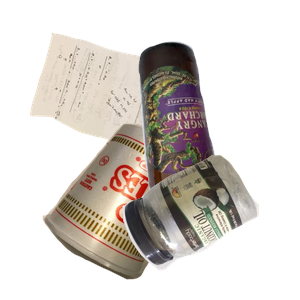glass: (136, 39, 300, 219)
paper: (27, 30, 203, 178)
plastic: (120, 152, 300, 300)
trash: (40, 121, 221, 300)
